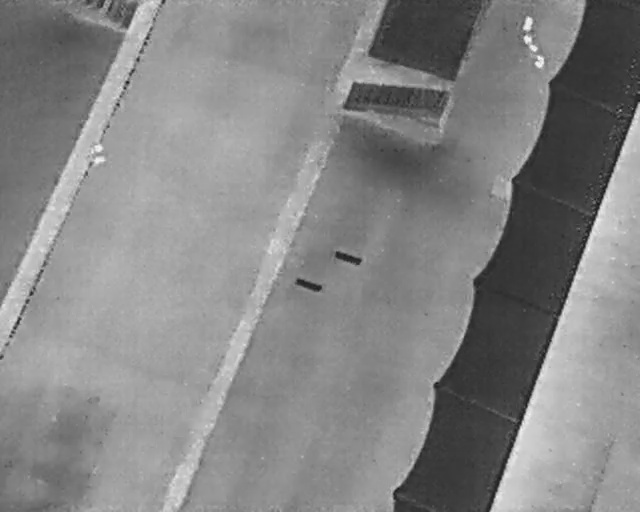Person: (89, 140, 107, 167)
